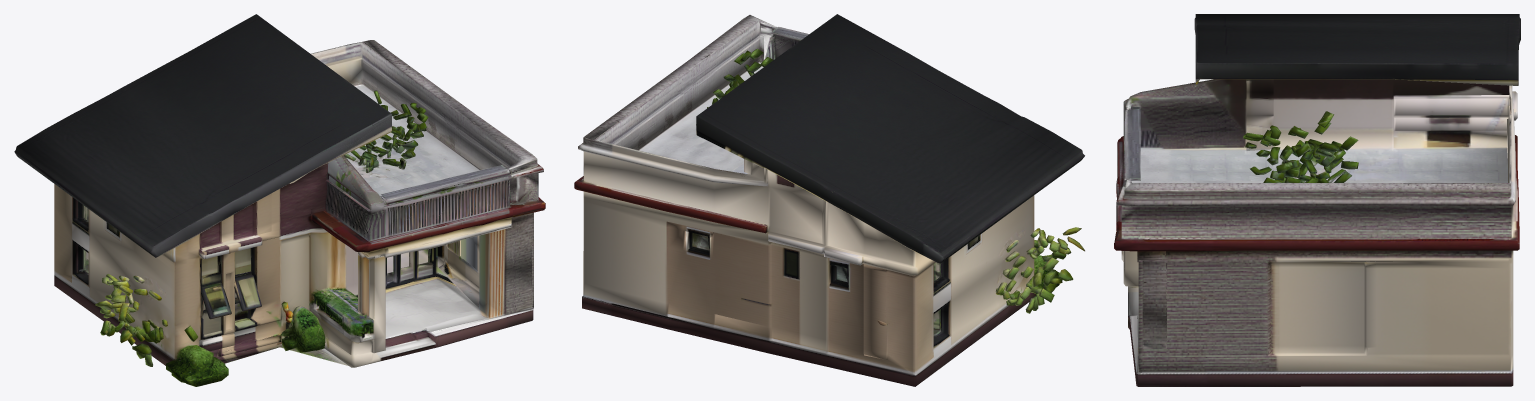
File: modern_house_0621171009_texture.glb
3 views of the same model, side by side, from view 1: azimuth 30°, elevation 25°; view 2: azimuth 150°, elevation 25°; view 3: azimuth 270°, elevation 25° (orthographic). The views are drawn at different scales.
Parts seen in each view (by area): view 1: Mesh_0; view 2: Mesh_0; view 3: Mesh_0.
Part boxes in pixels (x1,y1,x2,y2): Mesh_0: (14, 14, 545, 386); Mesh_0: (574, 14, 1084, 386); Mesh_0: (1114, 14, 1520, 386).
Bounding box in the file's own units: 15.45 × 8.53 × 12.18.
Materials: 1 (1 with a texture image).
